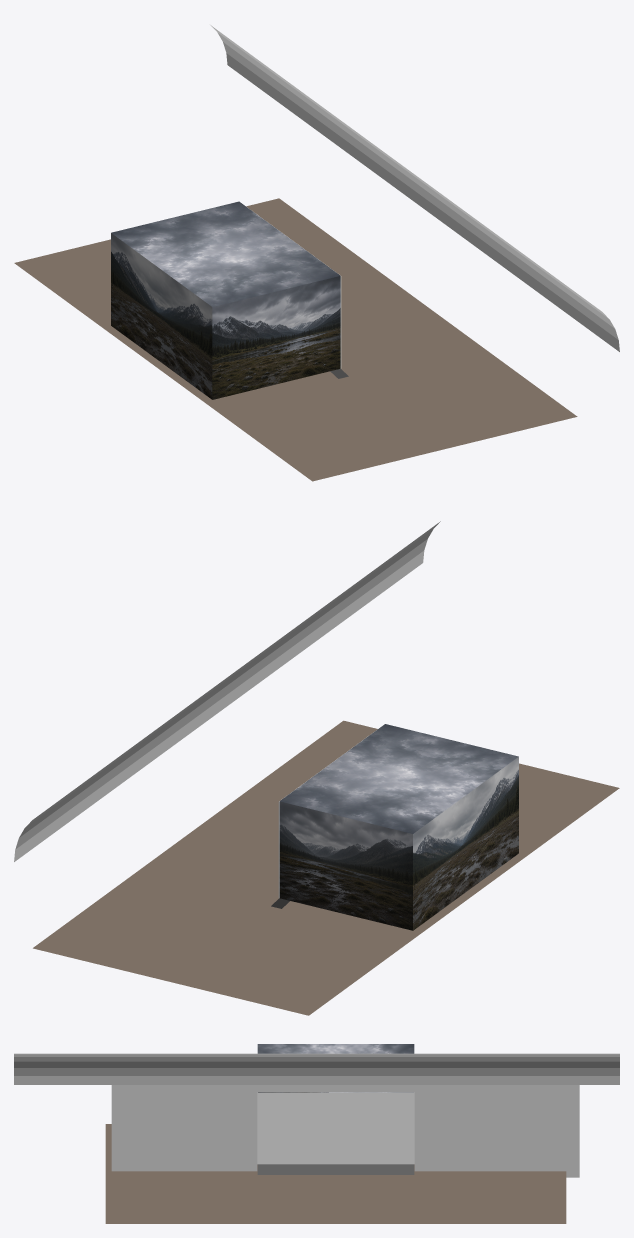
Rendered from creature.glb.
3 renders of one model, top to bottom at view 1: azimuth 30°, elevation 25°; view 2: azimuth 150°, elevation 25°; view 3: azimuth 270°, elevation 25°, orthographic. The views are drawn at different scales.
Visible parts, largest first — view 1: Плоскость, Cube, Окружность; view 2: Плоскость, Cube, Окружность; view 3: Плоскость.002, Плоскость, Окружность, Плоскость.004, Cube.
Part boxes in pixels (x1,y1,x2,y2): Плоскость: (14, 198, 577, 481); Cube: (111, 201, 348, 399); Окружность: (210, 25, 619, 351); Плоскость: (33, 720, 619, 1015); Cube: (271, 724, 518, 930); Окружность: (14, 521, 440, 861); Плоскость.002: (111, 1085, 579, 1177); Плоскость: (105, 1124, 566, 1223); Окружность: (14, 1053, 619, 1084); Плоскость.004: (257, 1092, 414, 1164); Cube: (257, 1044, 414, 1174).
Bounding box in the file's own units: 6.01 × 3.96 × 15.32.
8 materials, 5 textured.
